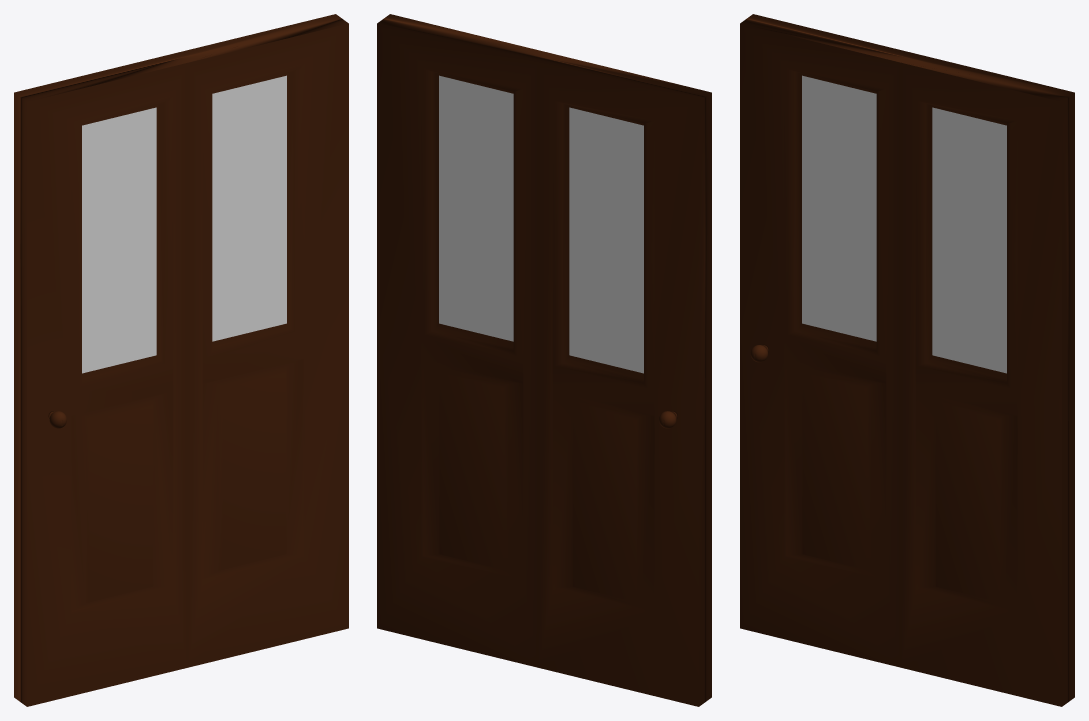
The model's file is door_prototype.fbx.
The picture shows the model from 3 angles, left to right: view 1: azimuth 30°, elevation 25°; view 2: azimuth 150°, elevation 25°; view 3: azimuth 330°, elevation 25°; orthographic projection.
Parts seen in each view (by area): view 1: Cube.055; view 2: Cube.055; view 3: Cube.055.
Boxes of the visible parts, left/top/right/bottom form: Cube.055: left=14, top=14, right=348, bottom=706; Cube.055: left=377, top=14, right=711, bottom=706; Cube.055: left=740, top=14, right=1074, bottom=706.
Bounding box in the file's own units: 1175 × 2112 × 213.
